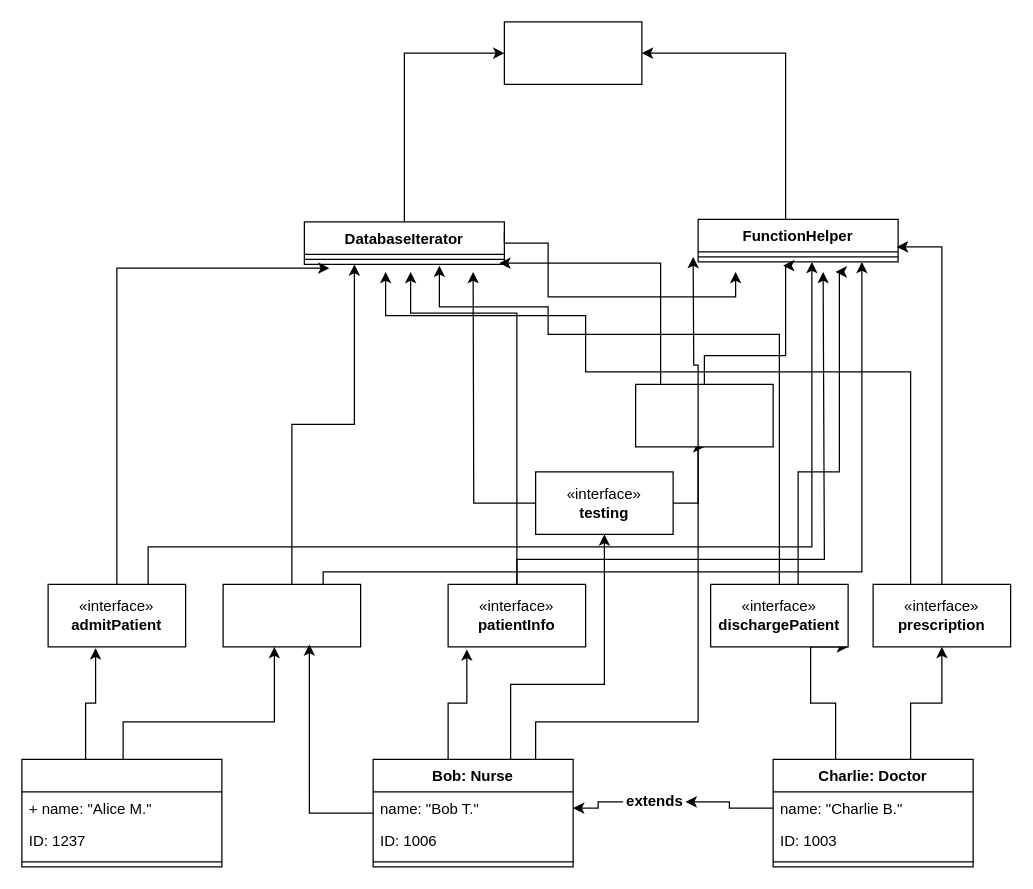
This 1033x889 diagram has some shape labels left out. The box of each missing label's shape, as (x1, y1, x2, y2) in pixels:
Alice: Receptionist: (21, 758, 222, 867)
Database: (503, 21, 642, 84)
«interface» homePage: (222, 583, 361, 647)
«interface» vitals: (634, 383, 773, 447)
